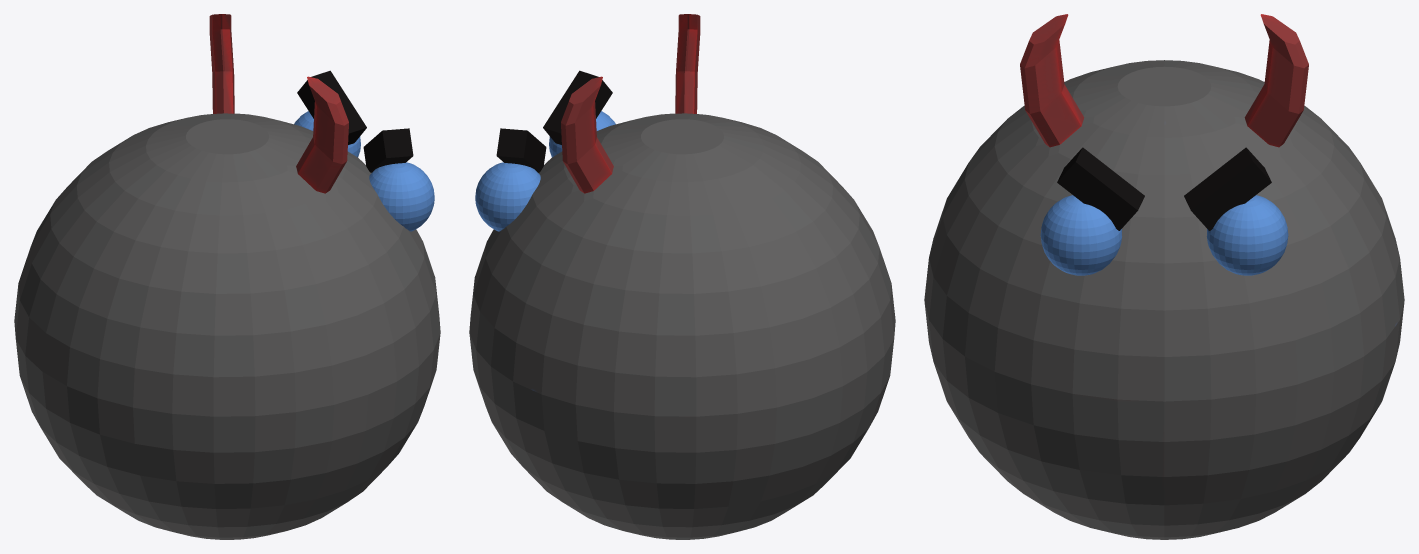
The model's file is Basic.fbx.
3 views of the same model, side by side, from view 1: azimuth 30°, elevation 25°; view 2: azimuth 150°, elevation 25°; view 3: azimuth 270°, elevation 25° (orthographic). The views are drawn at different scales.
Parts seen in each view (by area): view 1: Basic_Mesh; view 2: Basic_Mesh; view 3: Basic_Mesh.
Part boxes in pixels (x1,y1,x2,y2): Basic_Mesh: [14, 14, 440, 539]; Basic_Mesh: [469, 14, 895, 539]; Basic_Mesh: [924, 14, 1404, 539].
Size of the model in its own units: 200 by 239 by 200.
